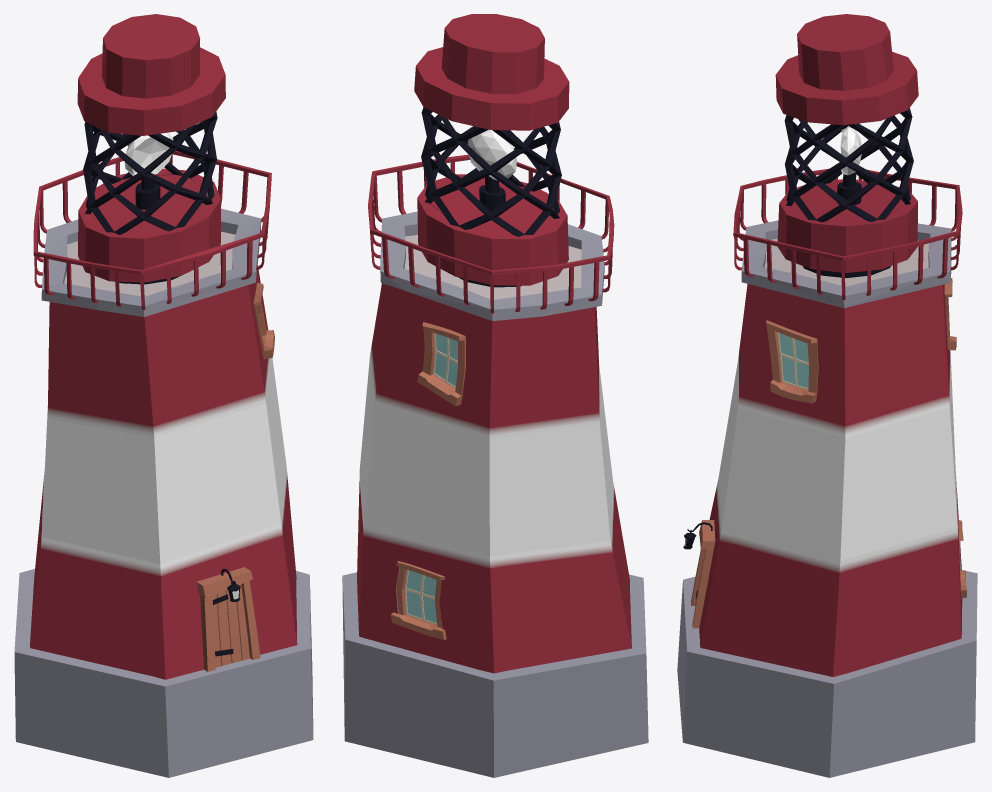
File: Lighthouse_04.fbx
3 renders of one model, left to right at view 1: azimuth 30°, elevation 25°; view 2: azimuth 150°, elevation 25°; view 3: azimuth 270°, elevation 25°, orthographic. The views are drawn at different scales.
Parts seen in each view (by area): view 1: Lighthouse_04; view 2: Lighthouse_04; view 3: Lighthouse_04.
Part boxes in pixels (x1,y1,x2,y2): Lighthouse_04: [14, 14, 313, 777]; Lighthouse_04: [342, 14, 648, 777]; Lighthouse_04: [677, 14, 977, 777].
Bounding box in the file's own units: 696 × 1496 × 605.
